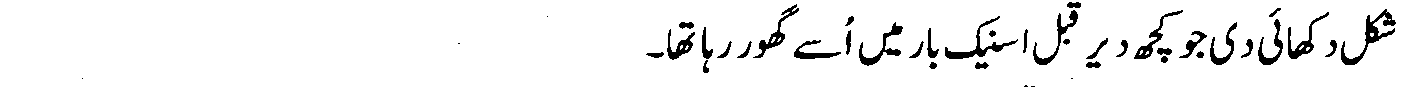bay_shosha: (1060, 23, 1069, 46)
